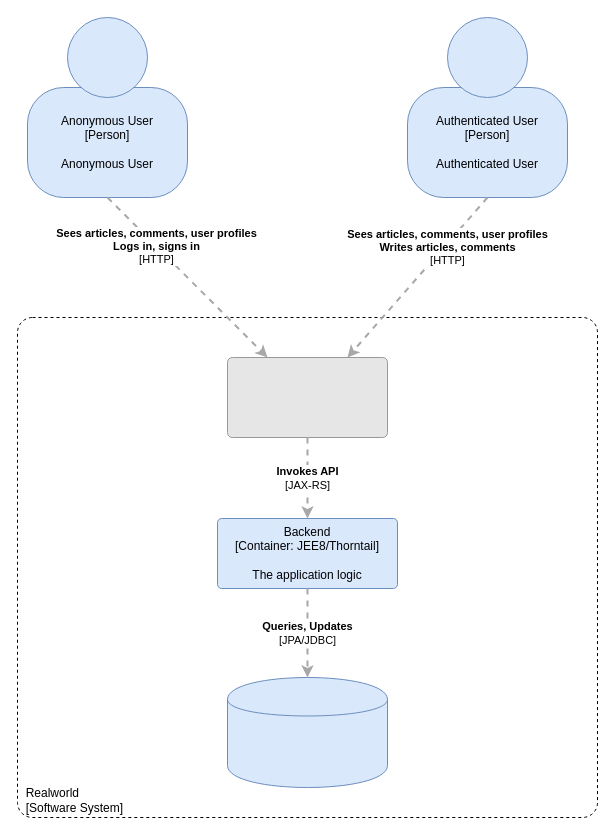
Image size: 615x835. Some labels were removed from this diagram. The shapes that lost their labels are listed below. From the top down, each one's box as (x1, y1, x2, y2) in pixels, then its label:
(226, 356, 388, 438): Front End [Container: any ] SPA, not provided by this solution
(226, 676, 388, 788): Database [Container: any]
